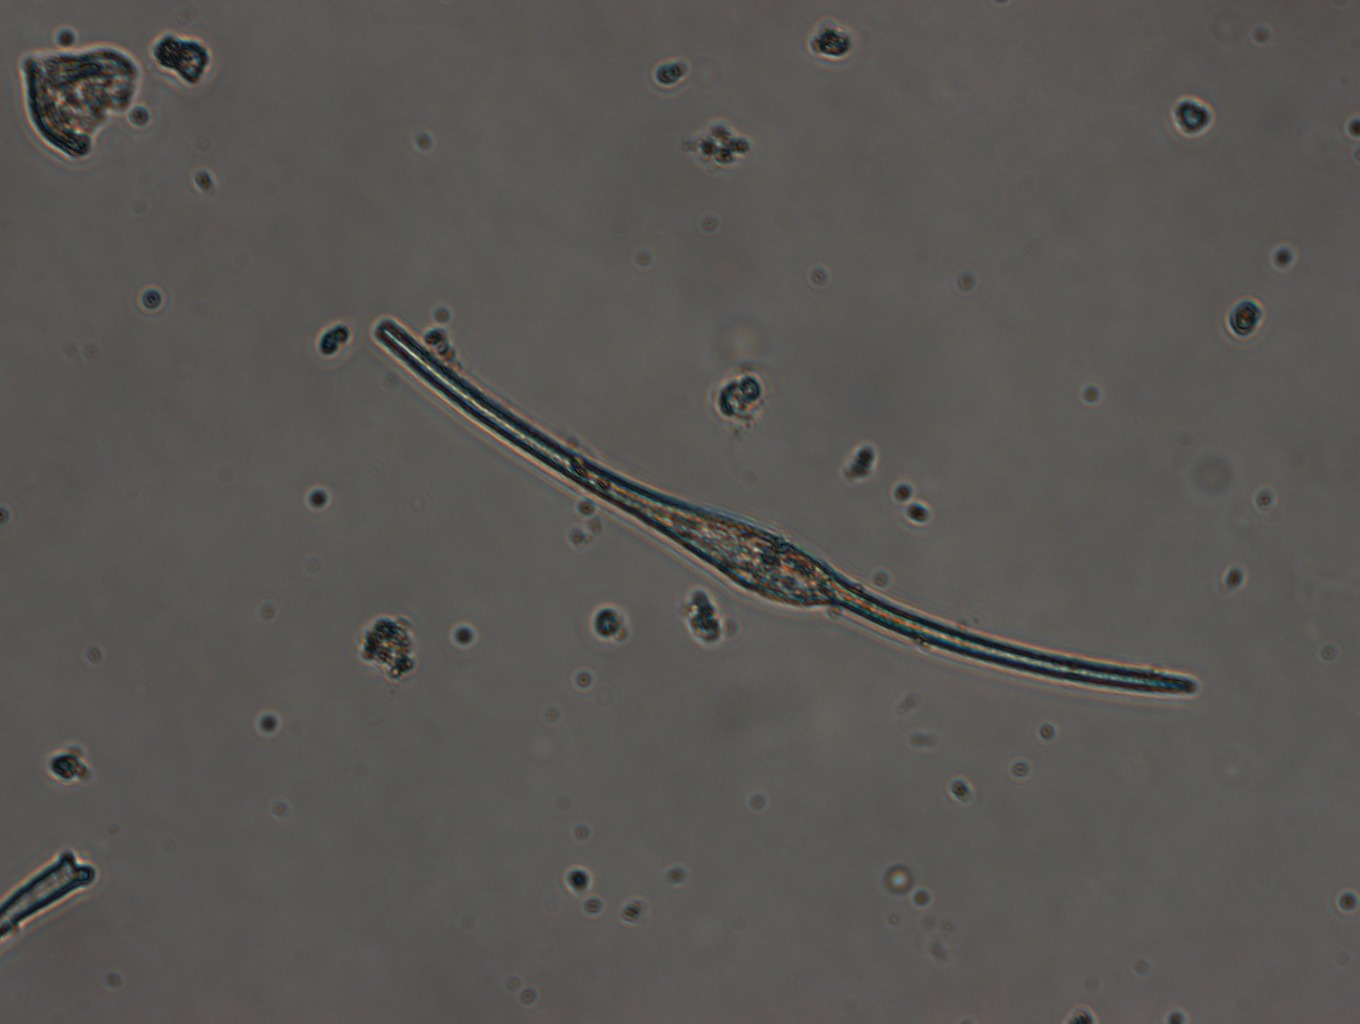ceratium fusus: (375, 313, 1202, 703)
